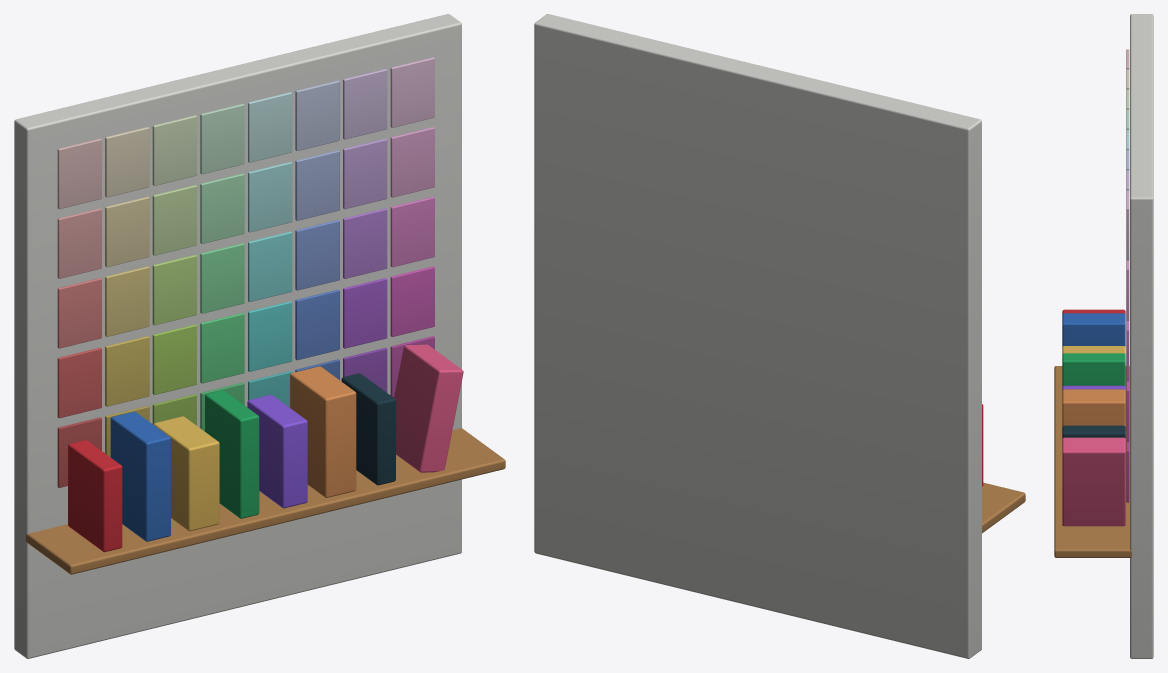
Rendered from swatch-wall.glb.
3 views of the same model, side by side, from view 1: azimuth 30°, elevation 25°; view 2: azimuth 150°, elevation 25°; view 3: azimuth 270°, elevation 25° (orthographic). The views are drawn at different scales.
Visible parts, largest first — view 1: swatch-wall-solid; view 2: swatch-wall-solid; view 3: swatch-wall-solid.
Part boxes in pixels (<box>): swatch-wall-solid: <box>14,14,505,658</box>; swatch-wall-solid: <box>534,14,1025,658</box>; swatch-wall-solid: <box>1054,14,1153,658</box>.
Bounding box in the file's own units: 0.8795 × 1.02 × 0.1995.
